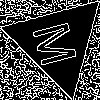M: (32, 17, 87, 69)
